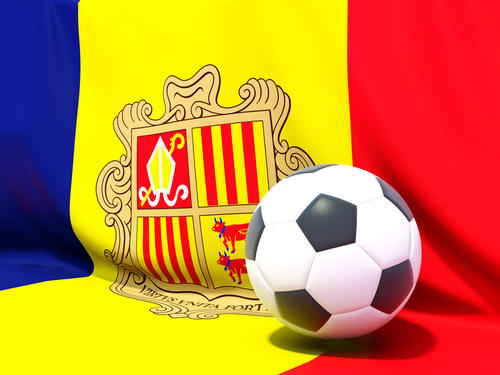football: (245, 163, 422, 344)
